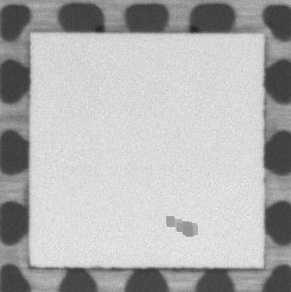DIE_INK: (160, 213, 203, 240)
